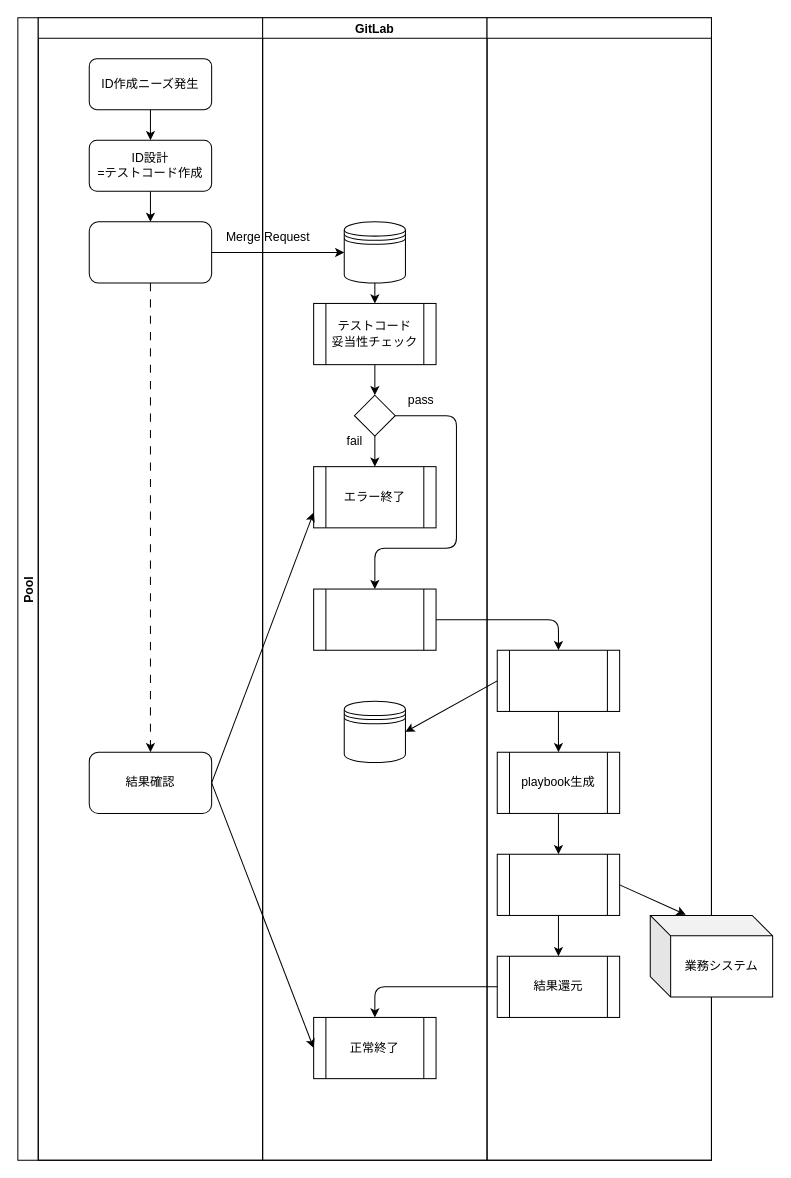
The diagram is 791 pixels wide and 1178 high, and some of its shapes have lost their labels. The box of each missing label's shape, as (x1, y1, x2, y2) in pixels:
ansible: (486, 17, 711, 1160)
ID作成・設定 実行: (496, 853, 620, 915)
ID作成依頼 =テストコード提出: (88, 221, 212, 283)
ID作成指示: (313, 588, 436, 650)
テストコード 取得: (496, 649, 620, 711)
開発部: (37, 17, 263, 1160)
